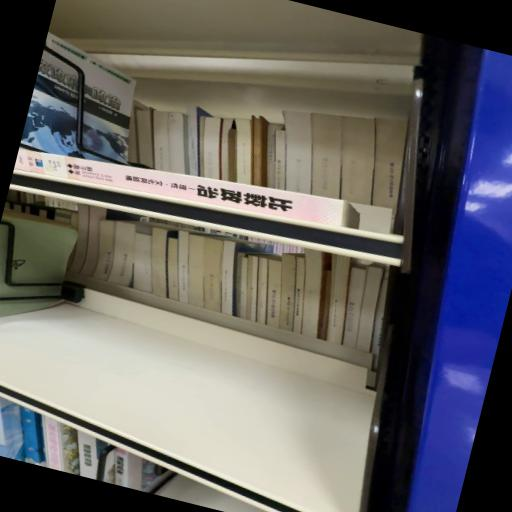flat: (14, 152, 361, 230)
